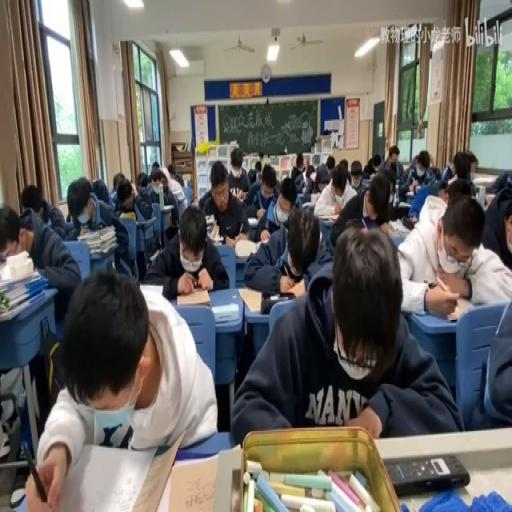calculator: (165, 452, 222, 511), (428, 289, 478, 321), (238, 283, 295, 311), (176, 287, 210, 306), (210, 300, 238, 322), (318, 216, 334, 245), (234, 238, 258, 256), (314, 205, 340, 220), (286, 279, 306, 296), (138, 283, 162, 296), (169, 183, 184, 202), (134, 215, 154, 226), (206, 216, 216, 235), (120, 209, 136, 219), (360, 176, 370, 190), (149, 248, 158, 263), (246, 214, 258, 224), (484, 194, 494, 206), (301, 199, 314, 208), (405, 189, 414, 198), (160, 204, 173, 210), (166, 213, 172, 226), (413, 184, 420, 194), (370, 171, 376, 179)
paper: (232, 225, 456, 442), (27, 268, 216, 510), (394, 186, 510, 310), (2, 199, 80, 324), (144, 203, 227, 296), (464, 278, 510, 432), (67, 174, 133, 278), (328, 168, 399, 247), (246, 166, 286, 236), (146, 165, 180, 228), (400, 150, 436, 200), (226, 145, 252, 199), (376, 145, 403, 189), (306, 158, 332, 195), (443, 176, 472, 205), (21, 183, 44, 215), (485, 170, 512, 194), (90, 176, 110, 205), (290, 151, 306, 186), (348, 159, 363, 191), (464, 150, 477, 180), (362, 155, 380, 176), (451, 154, 464, 176), (441, 160, 454, 180), (112, 172, 125, 191), (118, 192, 131, 209), (136, 170, 146, 188), (150, 174, 162, 189), (438, 186, 448, 204), (325, 154, 334, 172), (247, 168, 257, 183), (430, 165, 440, 179), (166, 161, 174, 176), (109, 188, 116, 205), (338, 158, 347, 171), (254, 160, 262, 174), (160, 179, 167, 189)
person: (386, 452, 470, 494), (8, 465, 28, 506), (395, 203, 411, 219), (402, 215, 415, 230), (214, 235, 226, 243)
